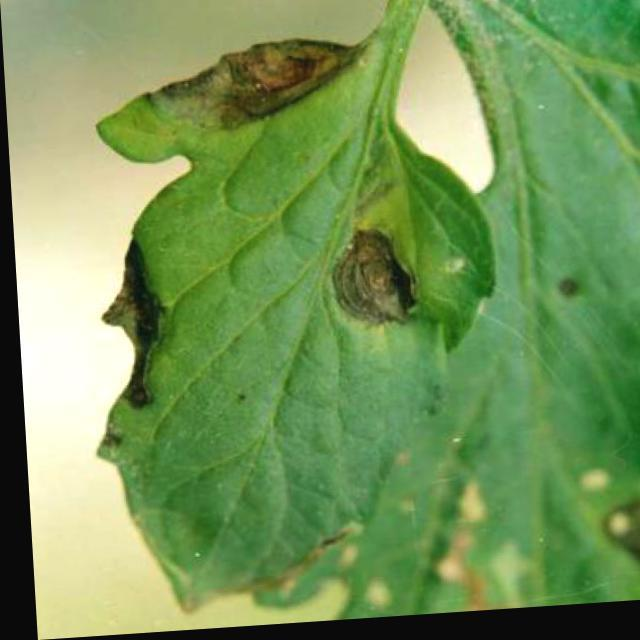Tomato mosaic virus leaf: (56, 0, 550, 635)
